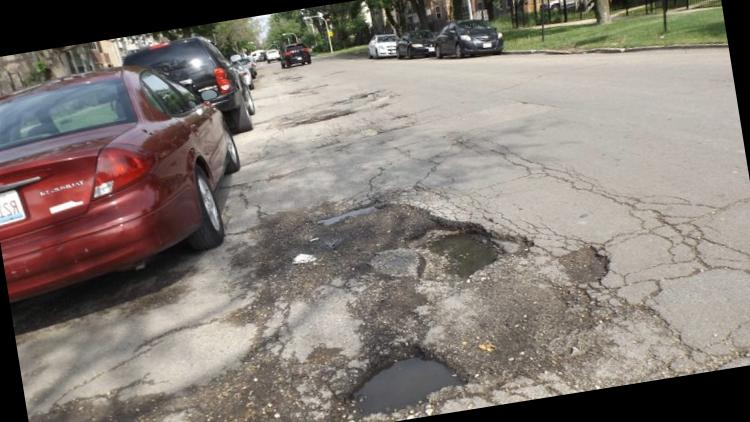pothole: (307, 330, 497, 422), (397, 214, 509, 292), (289, 176, 402, 243), (540, 232, 630, 300), (280, 96, 362, 136), (349, 114, 431, 147), (345, 82, 406, 116), (277, 79, 337, 104), (270, 68, 310, 92)
